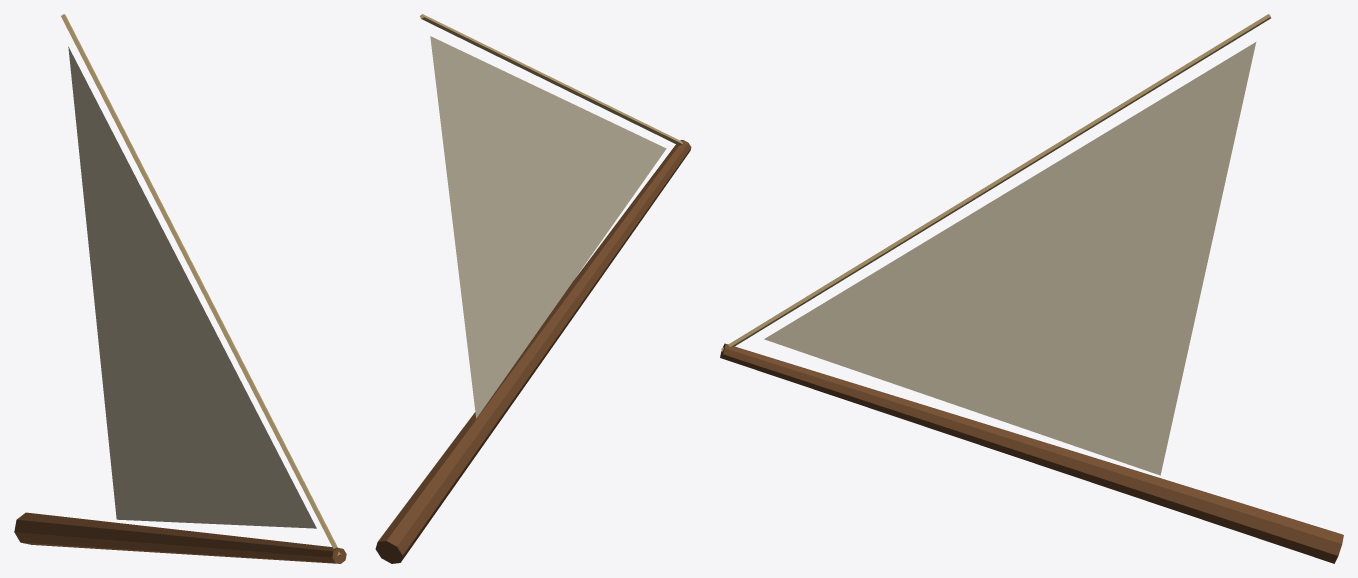
Rendered from nav-gurupes.gltf.
3 views of the same model, side by side, from view 1: azimuth 30°, elevation 25°; view 2: azimuth 150°, elevation 25°; view 3: azimuth 270°, elevation 25° (orthographic). The views are drawn at different scales.
Visible parts, largest first — view 1: nav-gurupes; view 2: nav-gurupes; view 3: nav-gurupes.
Boxes of the visible parts, x1=… form: nav-gurupes: x1=14, y1=14, x2=346, y2=563; nav-gurupes: x1=375, y1=14, x2=691, y2=563; nav-gurupes: x1=720, y1=14, x2=1343, y2=563.
Size of the model in its own units: 0.2399 by 4.43 by 4.56.
